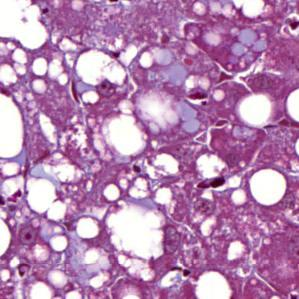steatosis: (247, 166, 290, 208)
